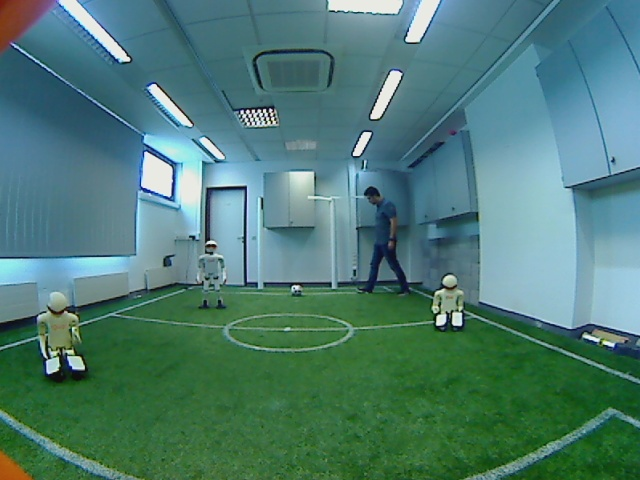ball: (285, 281, 307, 301)
robot: (35, 291, 88, 385), (425, 272, 471, 334), (192, 239, 231, 311)
